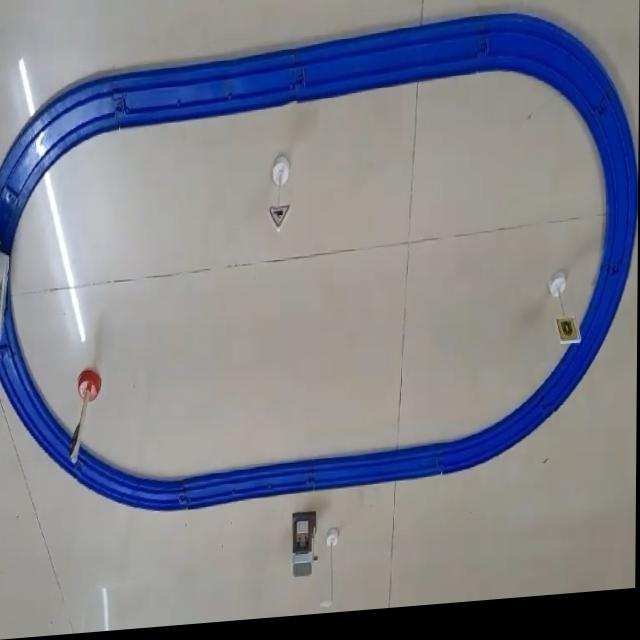bus: (0, 237, 15, 359)
